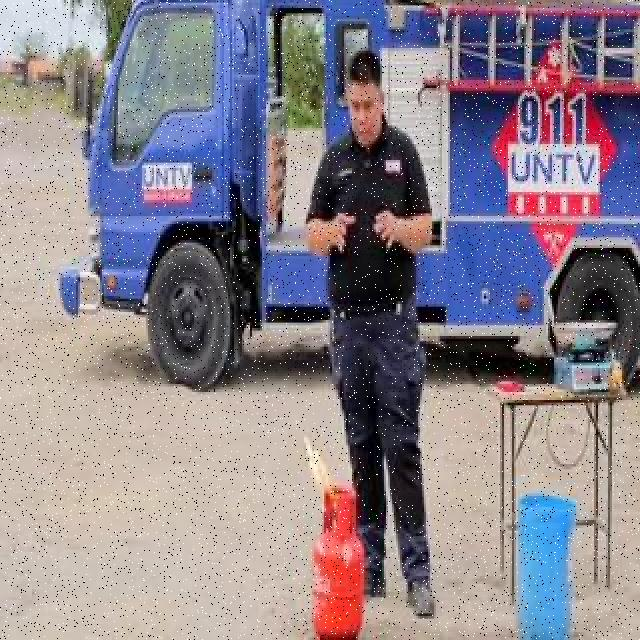fire: (306, 443, 335, 501)
